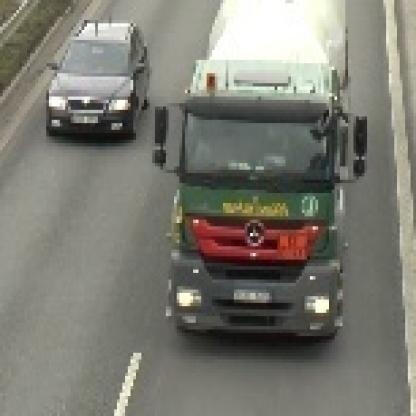truck: (150, 1, 365, 340)
